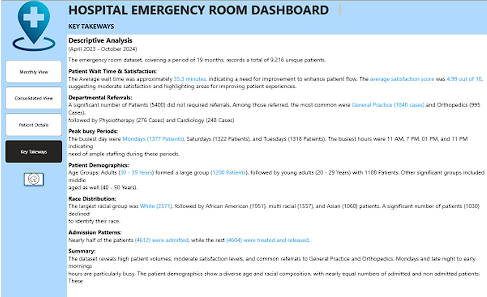

What the dashboard file says about the page in this screenshot:
{"tool":"powerbi","page":{"name":"Key Takeways","canvas":[2300,1400],"ordinal":3},"visuals":[{"type":"shape","box":[9.9,0,310,1400.5],"z":0},{"type":"shape","box":[318.6,0,1980.6,159.3],"z":1000},{"type":"textbox","box":[321,9.5,1288.7,76.1],"z":2000},{"type":"textbox","box":[321,95.1,413.7,64.2],"z":3000},{"type":"image","box":[9.5,0,309.1,237.8],"z":4000},{"type":"textbox","box":[320,159,1980,1241],"z":5000},{"type":"pageNavigator","box":[30.9,280.6,266.3,482.7],"z":6000},{"type":"actionButton","box":[109.4,801.3,107,76.1],"z":7000}]}

Visuals, with their boxes on the page's 2300x1400 design canvas (x1, y1, x2, y2). These are canvas units, not pixel positions in the 487x297 screenshot, which may show the page scaled, cropped or inside an application window:
shape: locate(10, 0, 320, 1400)
shape: locate(319, 0, 2299, 159)
textbox: locate(321, 10, 1610, 86)
textbox: locate(321, 95, 735, 159)
image: locate(10, 0, 319, 238)
textbox: locate(320, 159, 2300, 1400)
pageNavigator: locate(31, 281, 297, 763)
actionButton: locate(109, 801, 216, 877)
